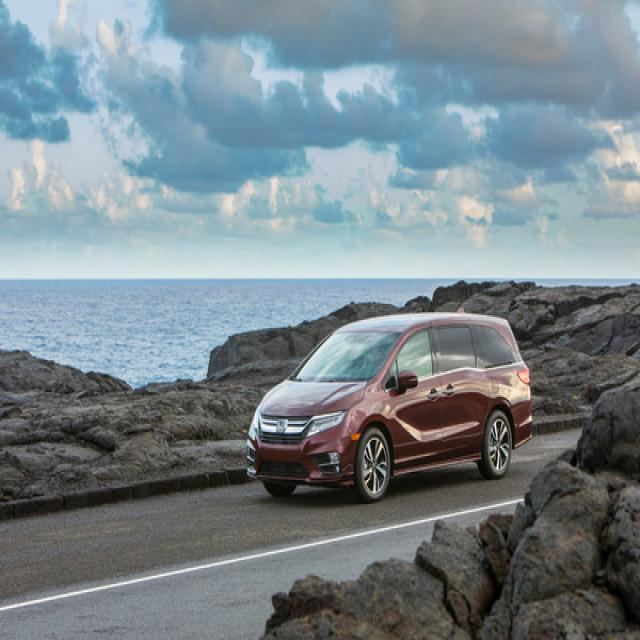minivan: (244, 308, 534, 502)
